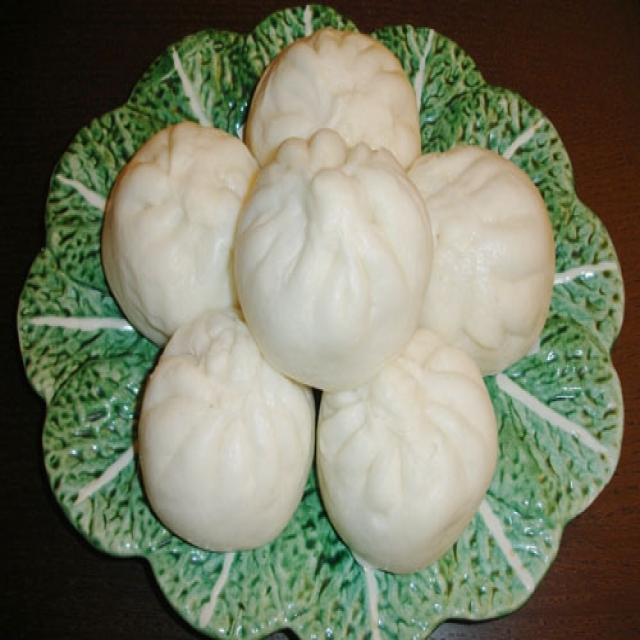带馅早点: (53, 17, 588, 618)
